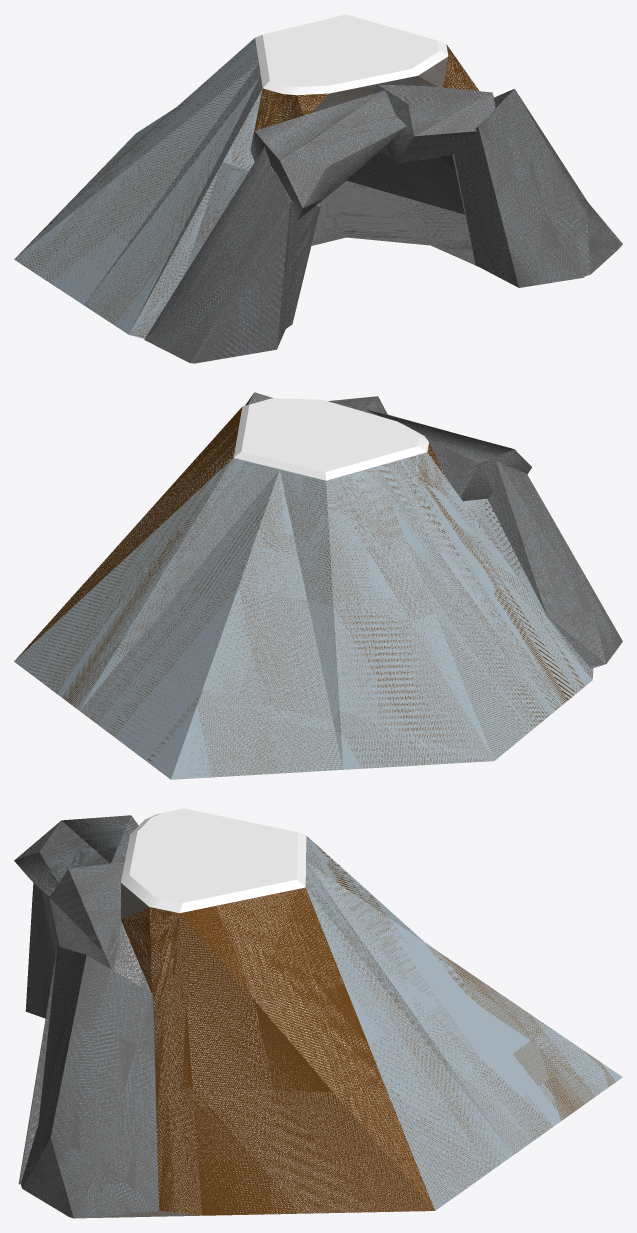
File: Cave_Snow_01.fbx
3 renders of one model, top to bottom at view 1: azimuth 30°, elevation 25°; view 2: azimuth 150°, elevation 25°; view 3: azimuth 270°, elevation 25°, orthographic. The views are drawn at different scales.
Visible parts, largest first — view 1: Model; view 2: Model; view 3: Model.
Boxes of the visible parts, x1,y1,x2,y2 form: Model: (14,14,622,363); Model: (14,392,622,779); Model: (14,808,622,1218).
Size of the model in its own units: 1284 by 532 by 1235.
